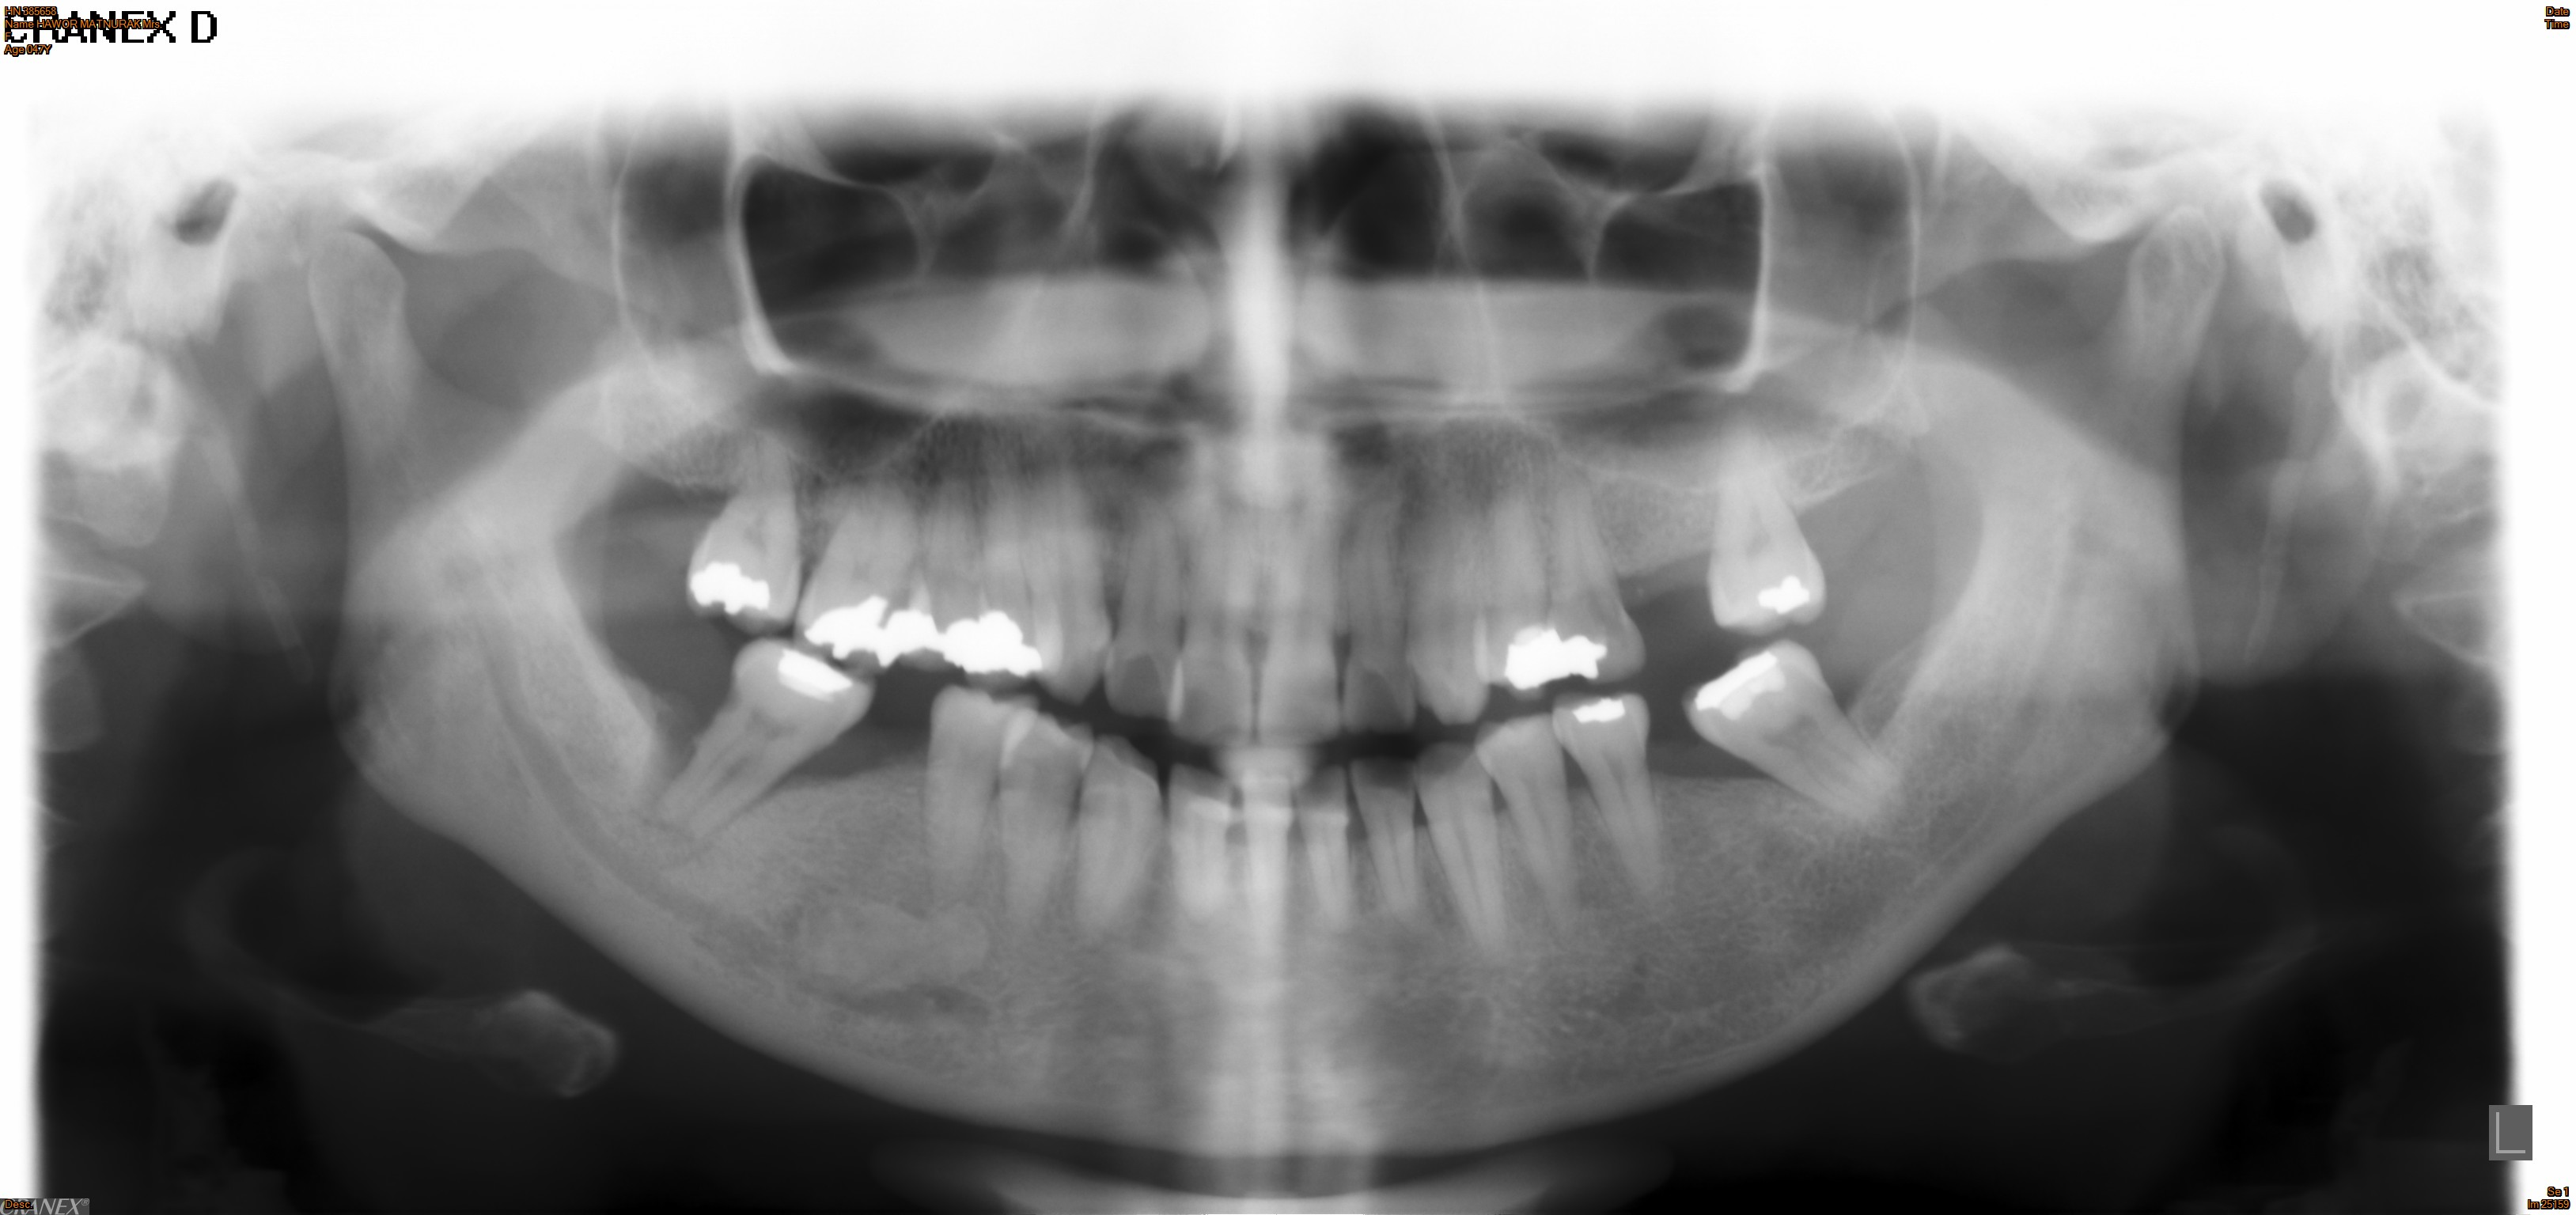periodontitis: (608, 632, 890, 842), (1666, 635, 1943, 842)
